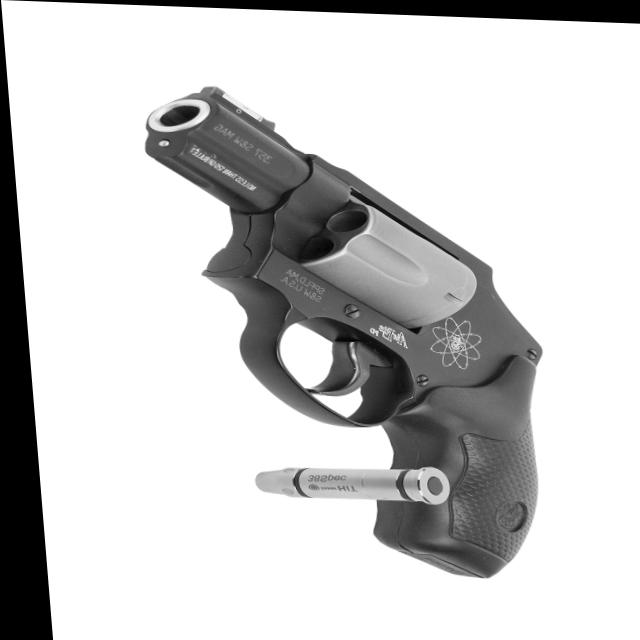handgun: (137, 82, 552, 581)
